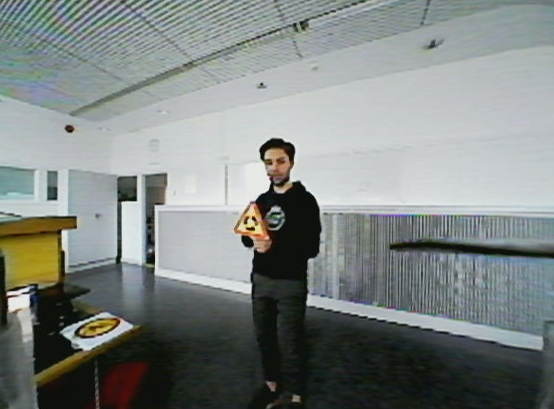roundabout_warning: (227, 195, 274, 242)
